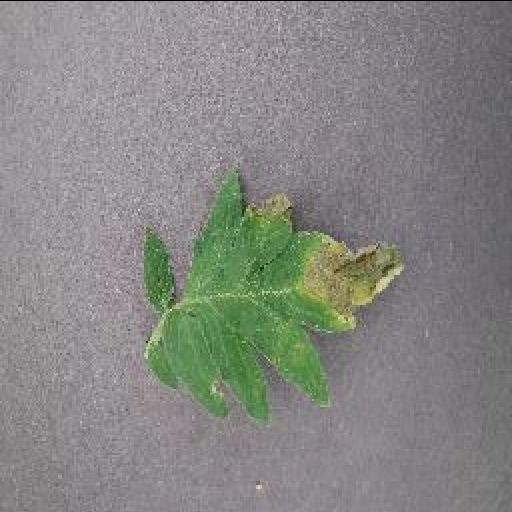disease_tomato: (142, 170, 404, 422)
